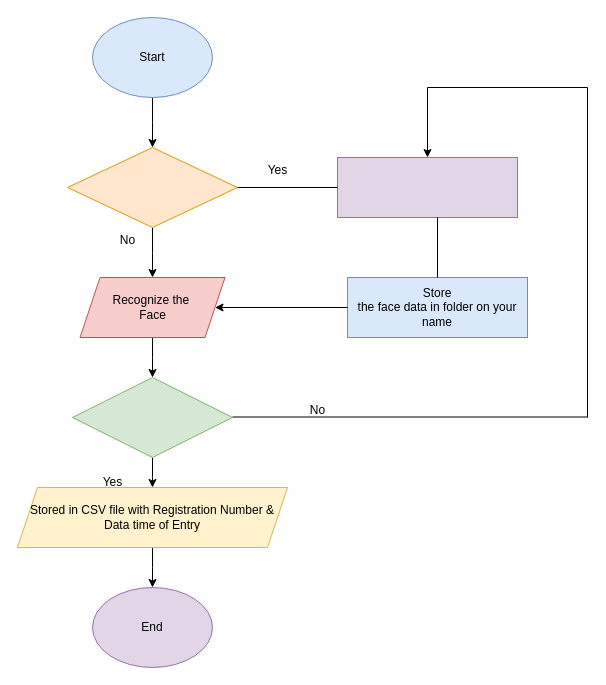
Some shapes in this 606 by 685 pixel diagram are drawn without their labels. The shapes that lost their labels are listed below. From the top down, each one's centre as x and y in pixels, then its label:
(x=152, y=187): New User
(x=427, y=187): Give your PhotoGraph
(x=152, y=417): Face Recognize
